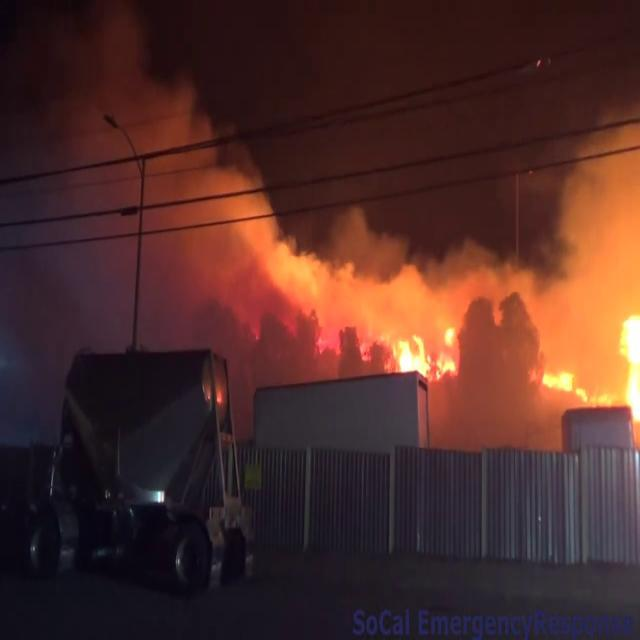Fire: (534, 260, 640, 440), (377, 319, 464, 383)
Smoke: (350, 124, 640, 447), (0, 1, 254, 337)
